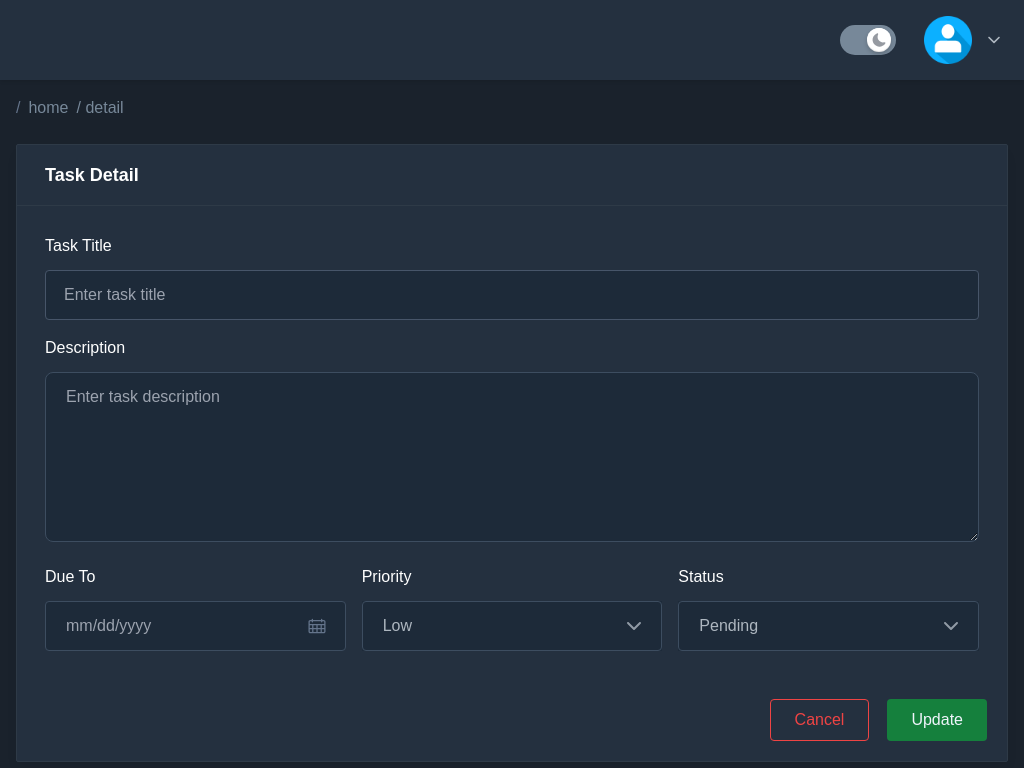
Test case: TaskDetail Component › validates title input
In the field with placeholder "Enter task title": coordinates (512, 295) [45,270,979,320], type "Te"
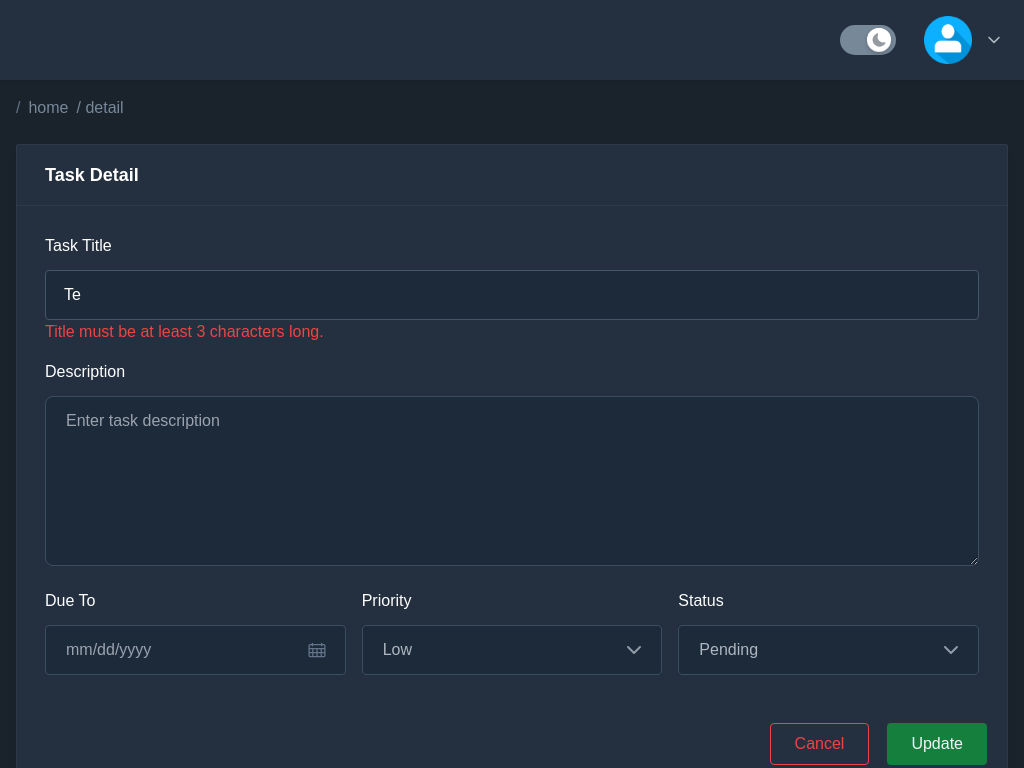
Expected: the text "Title must be at least 3 characters long." is shown, [45,323,324,340]
Replace the text in the field with placeholder "Enter task title" with "Test Title": coordinates (512, 295) [45,270,979,320]
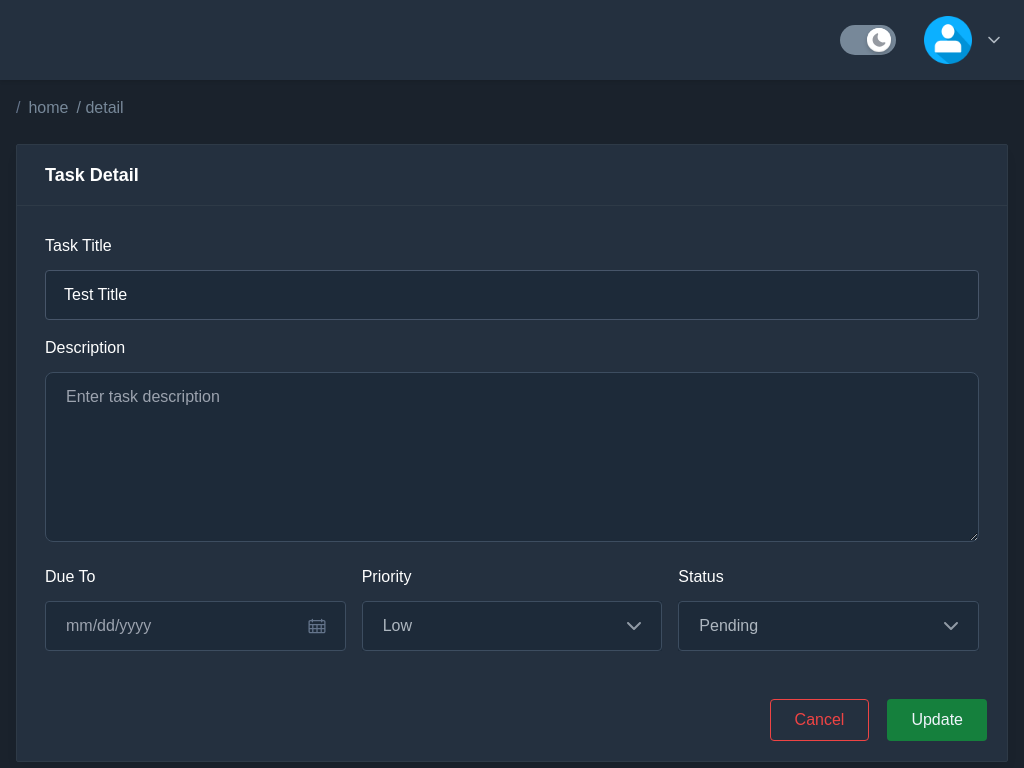
Expected: the text "Title must be at least 3 characters long" is gone
